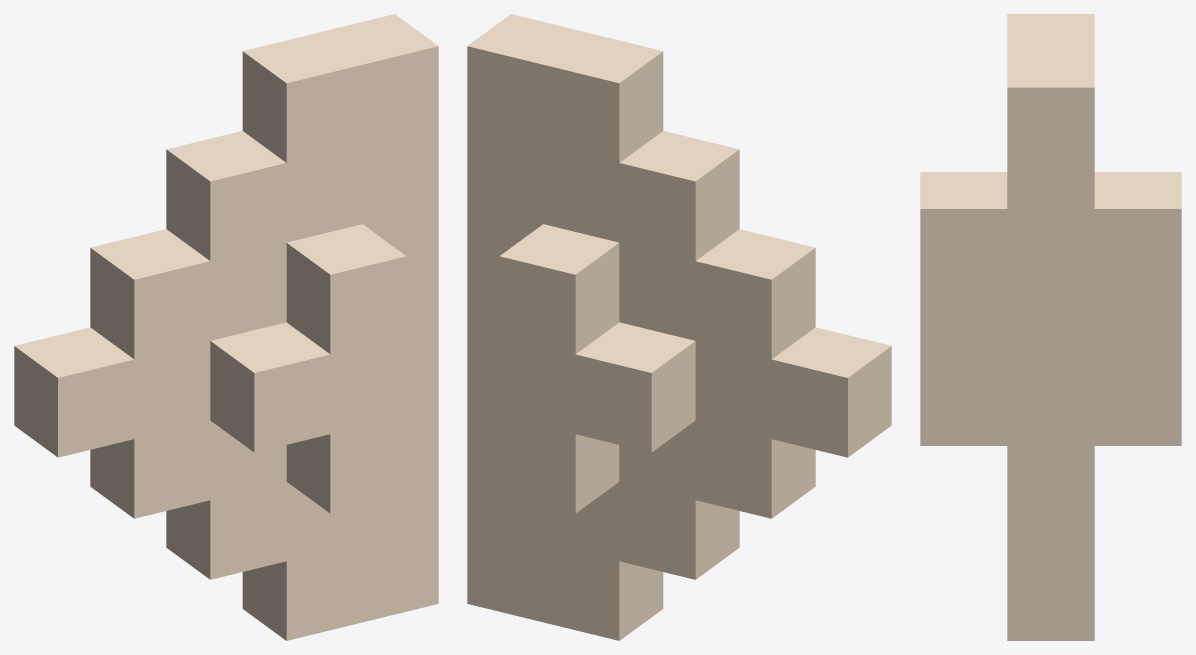
The model's file is play.obj.
3 views of the same model, side by side, from view 1: azimuth 30°, elevation 25°; view 2: azimuth 150°, elevation 25°; view 3: azimuth 270°, elevation 25° (orthographic).
Bounding box in the file's own units: 0.5 × 0.7 × 0.3.
1 material, 1 textured.
